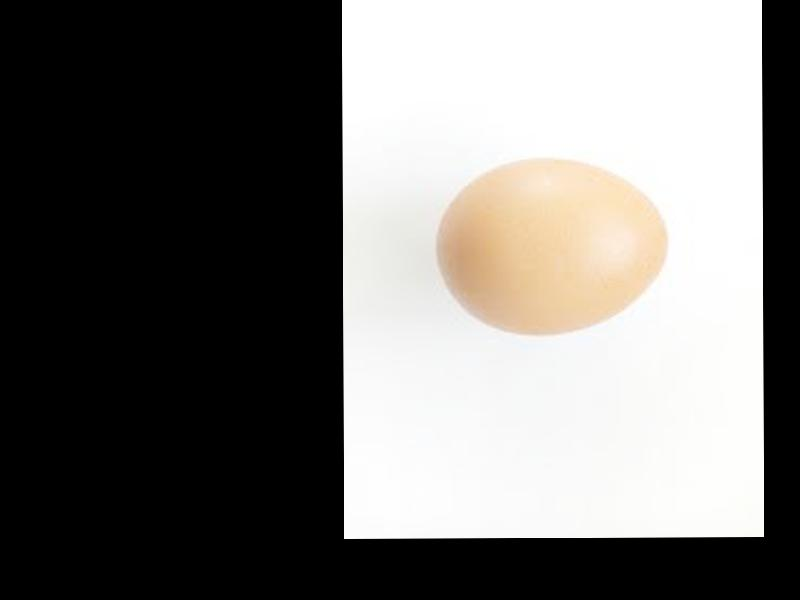Eggs: (433, 159, 672, 337)
